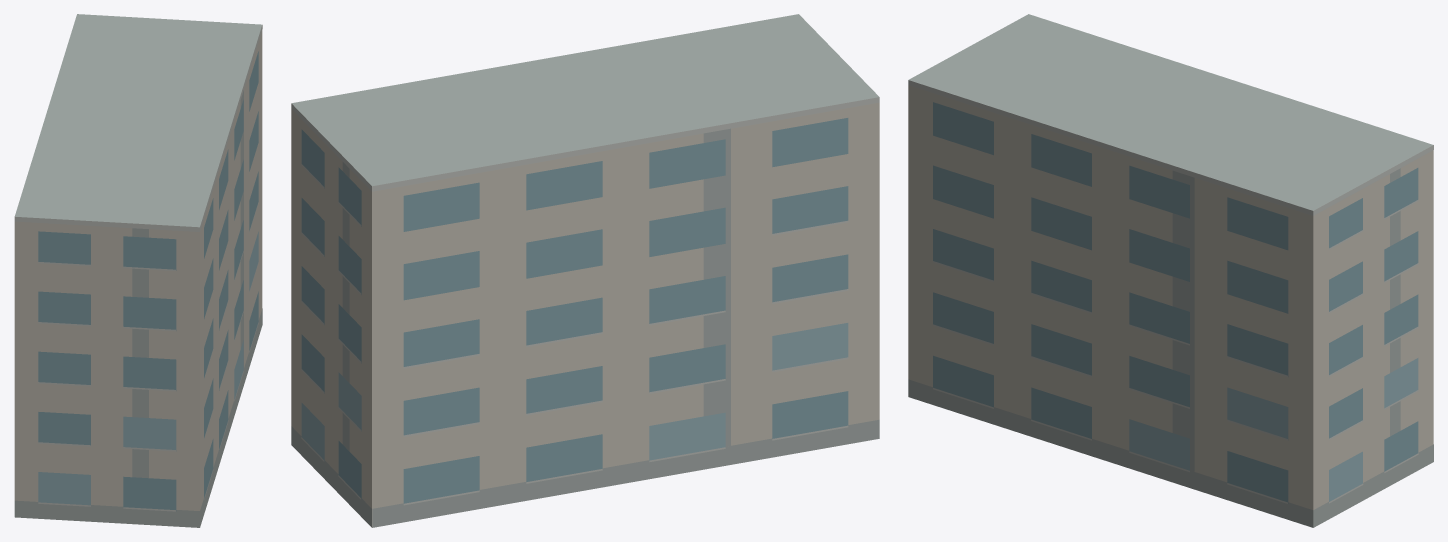
Rendered from survey-upis-32768398.glb.
The picture shows the model from 3 angles, left to right: view 1: azimuth 30°, elevation 25°; view 2: azimuth 150°, elevation 25°; view 3: azimuth 270°, elevation 25°; orthographic projection. The views are drawn at different scales.
Visible parts, largest first — view 1: survey-upis-32768398.tmp; view 2: survey-upis-32768398.tmp; view 3: survey-upis-32768398.tmp.
Part boxes in pixels (<box>): survey-upis-32768398.tmp: <box>14,14,262,527</box>; survey-upis-32768398.tmp: <box>291,14,879,527</box>; survey-upis-32768398.tmp: <box>908,14,1433,527</box>.
Bounding box in the file's own units: 20.33 × 15.25 × 22.92.
